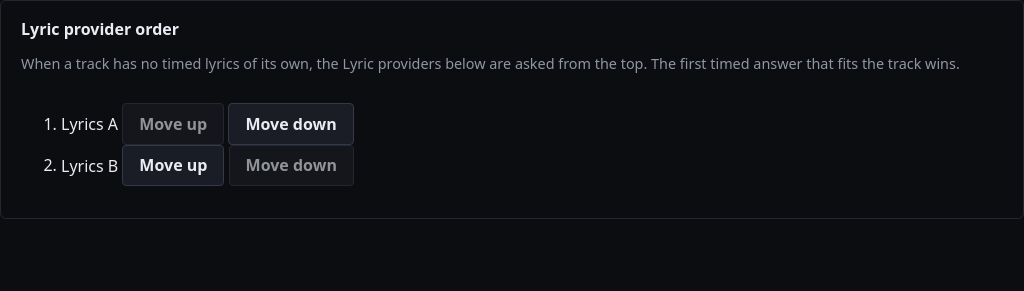
Test: LyricProviderOrder › shows the server's refusal and keeps the order it had
Click the button with test id "lyric-order-down-lrc-a" at (291, 124), box x1=228 y1=103 x2=354 y2=144
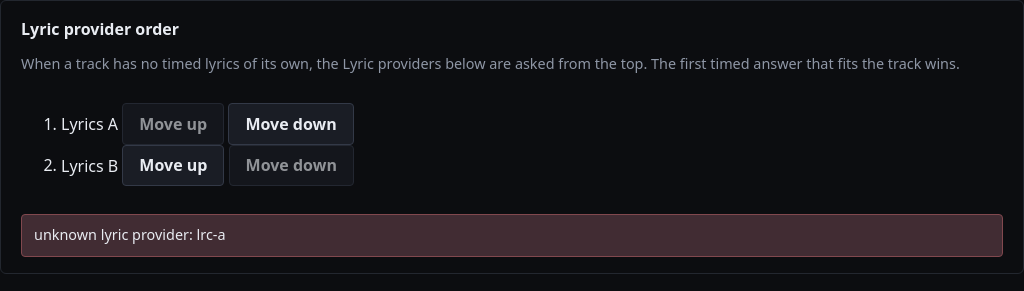
Check: the list item "Lyrics A Move up Move down" is shown, box x1=61 y1=103 x2=354 y2=144
Check: the text with test id "lyric-order-error" reads "unknown lyric provider: lrc-a", box x1=34 y1=225 x2=226 y2=244
